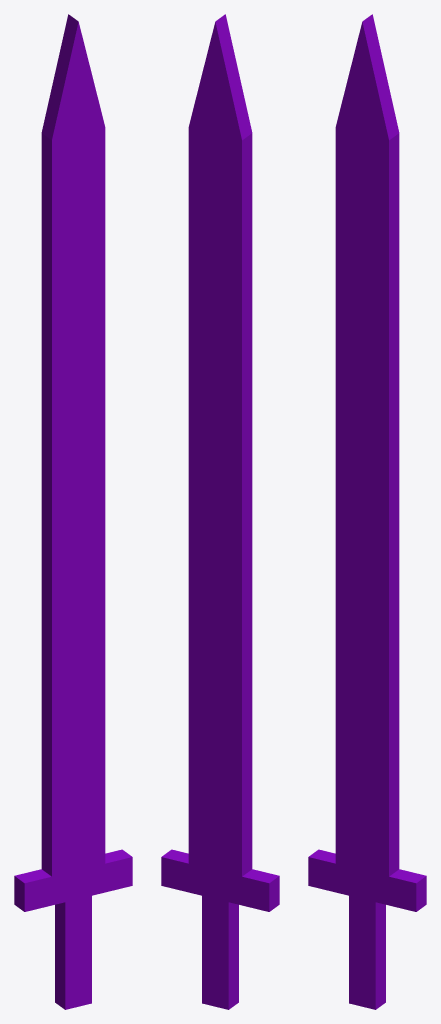
File: Sword.fbx
3 renders of one model, left to right at view 1: azimuth 30°, elevation 25°; view 2: azimuth 150°, elevation 25°; view 3: azimuth 330°, elevation 25°, orthographic.
Parts seen in each view (by area): view 1: Sword; view 2: Sword; view 3: Sword.
Boxes of the visible parts, x1=… form: Sword: x1=14, y1=14, x2=132, y2=1009; Sword: x1=161, y1=14, x2=279, y2=1009; Sword: x1=308, y1=14, x2=426, y2=1009.
Size of the model in its own units: 10.09 by 87.93 by 1.66.
